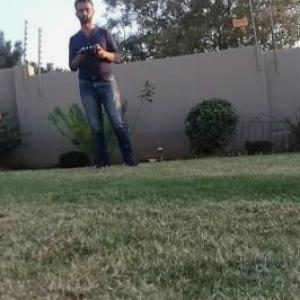follow: (64, 0, 147, 174)
